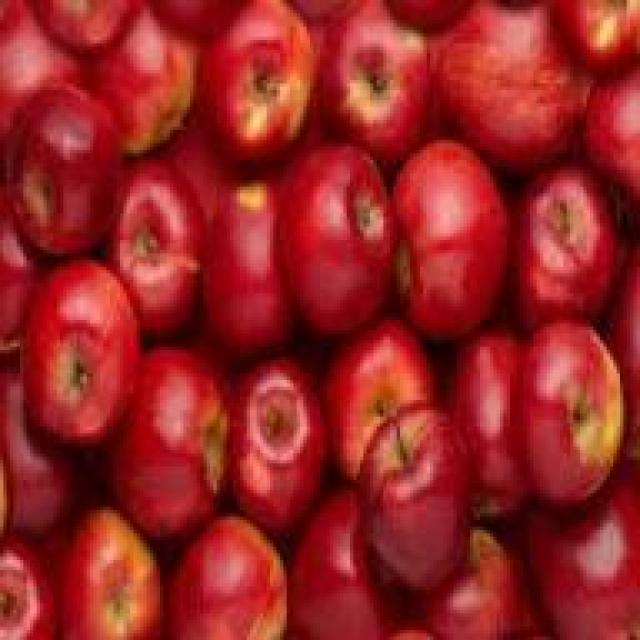apple: (510, 313, 630, 507), (113, 333, 227, 537), (396, 126, 506, 336), (290, 137, 400, 333), (440, 10, 577, 160), (23, 273, 140, 447), (320, 303, 430, 477), (350, 407, 467, 570), (106, 167, 216, 340), (197, 10, 320, 160), (443, 320, 537, 510), (56, 496, 180, 640), (13, 83, 117, 247), (510, 170, 613, 330), (220, 360, 323, 517), (206, 177, 296, 353), (327, 10, 430, 147), (180, 513, 290, 637)
